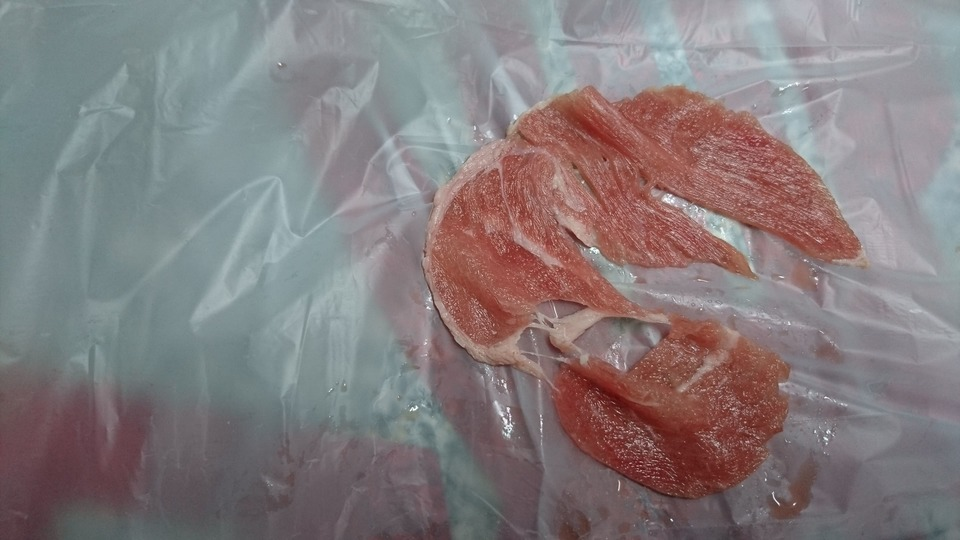restructured meat: (402, 104, 864, 526)
